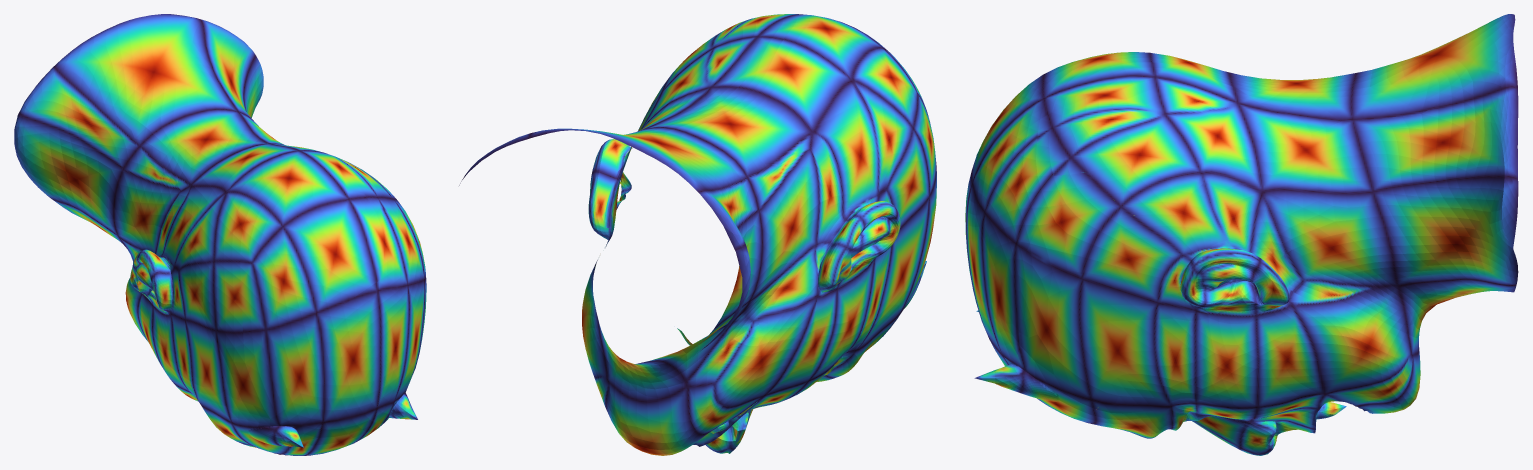
The model's file is gen0.glb.
3 renders of one model, left to right at view 1: azimuth 30°, elevation 25°; view 2: azimuth 150°, elevation 25°; view 3: azimuth 270°, elevation 25°, orthographic. The views are drawn at different scales.
Visible parts, largest first — view 1: Node; view 2: Node; view 3: Node.
Part boxes in pixels (box(x1,y1,x2,y2)): Node: box(14, 14, 426, 455); Node: box(459, 14, 936, 455); Node: box(965, 14, 1518, 455).
Bounding box in the file's own units: 25.03 × 33.47 × 40.
1 material, 1 textured.
